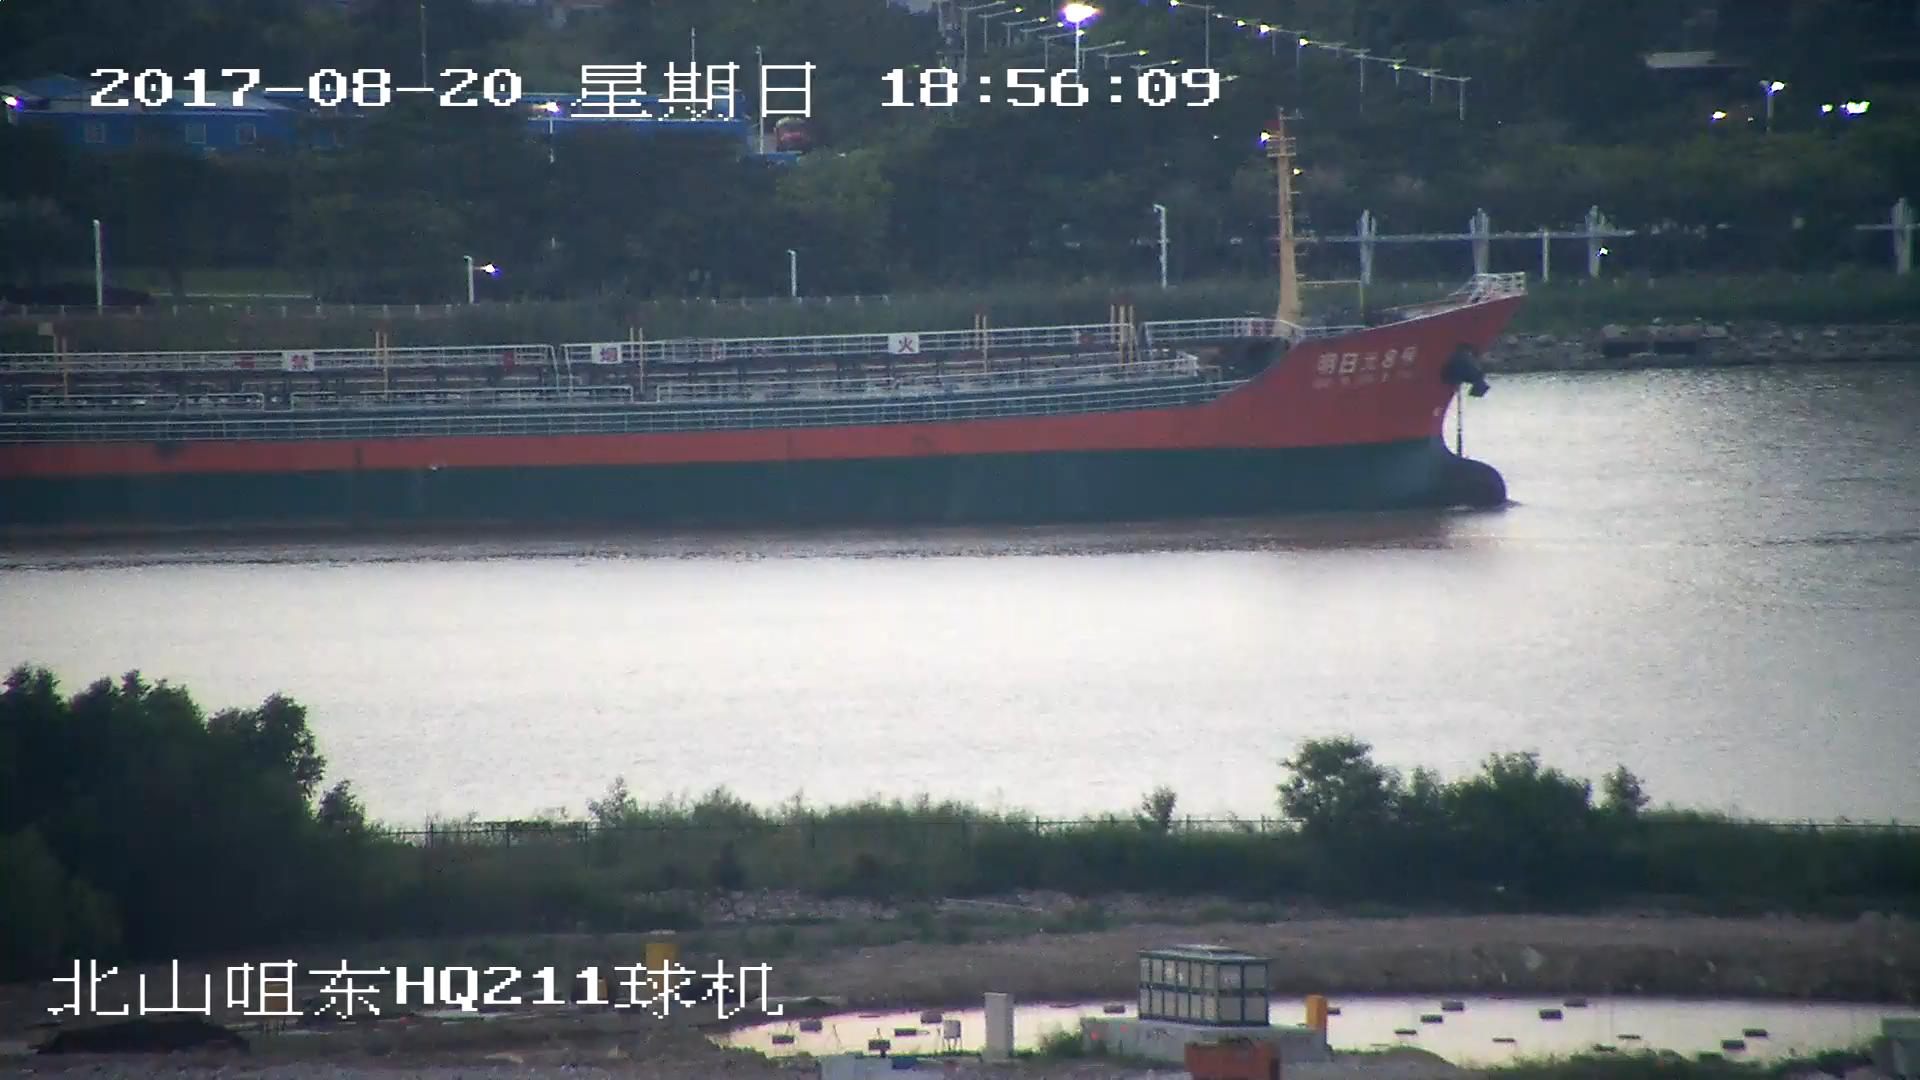general cargo ship: (1, 124, 1527, 522)
